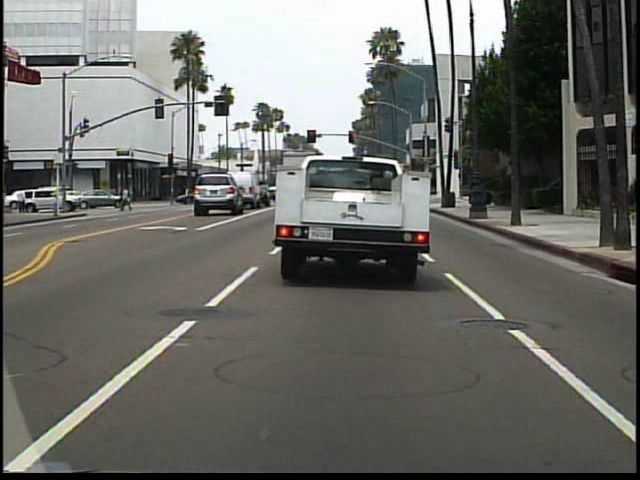person: (17, 185, 32, 216)
